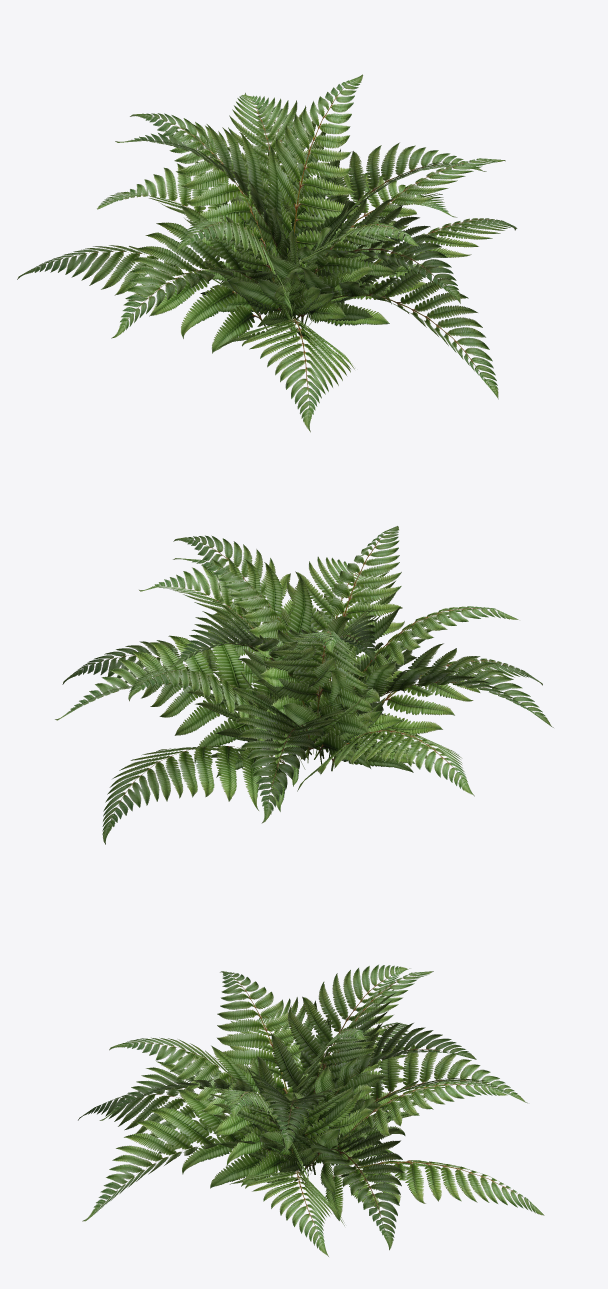
The model's file is tree7.fbx.
3 views of the same model, one above another, from view 1: azimuth 30°, elevation 25°; view 2: azimuth 150°, elevation 25°; view 3: azimuth 270°, elevation 25° (orthographic). The views are drawn at different scales.
Parts seen in each view (by area): view 1: SM_MZRa_Fern_B052; view 2: SM_MZRa_Fern_B052; view 3: SM_MZRa_Fern_B052.
Part boxes in pixels (box(x1,y1,x2,y2)): SM_MZRa_Fern_B052: box(17, 74, 517, 432); SM_MZRa_Fern_B052: box(55, 526, 553, 844); SM_MZRa_Fern_B052: box(78, 964, 544, 1256).
Size of the model in its own units: 277 by 143 by 278.
